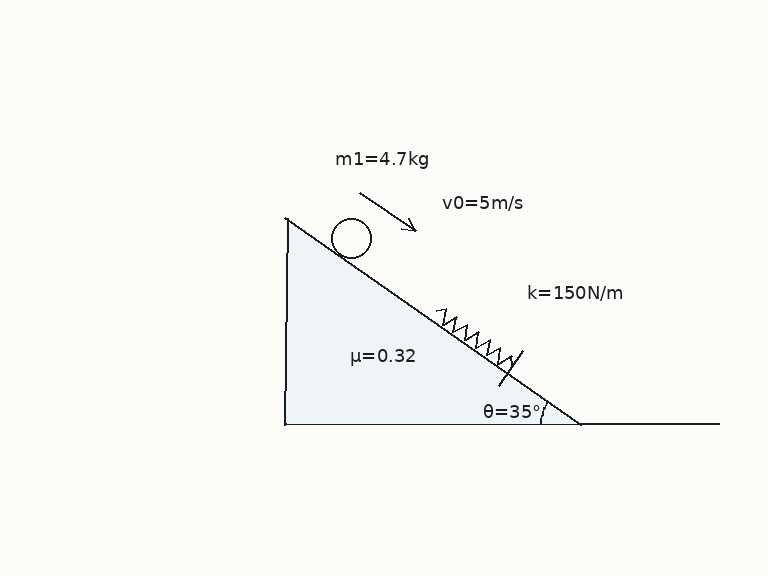ball: (329, 216, 373, 260)
ramp: (284, 216, 583, 426)
spring: (434, 307, 514, 367)
